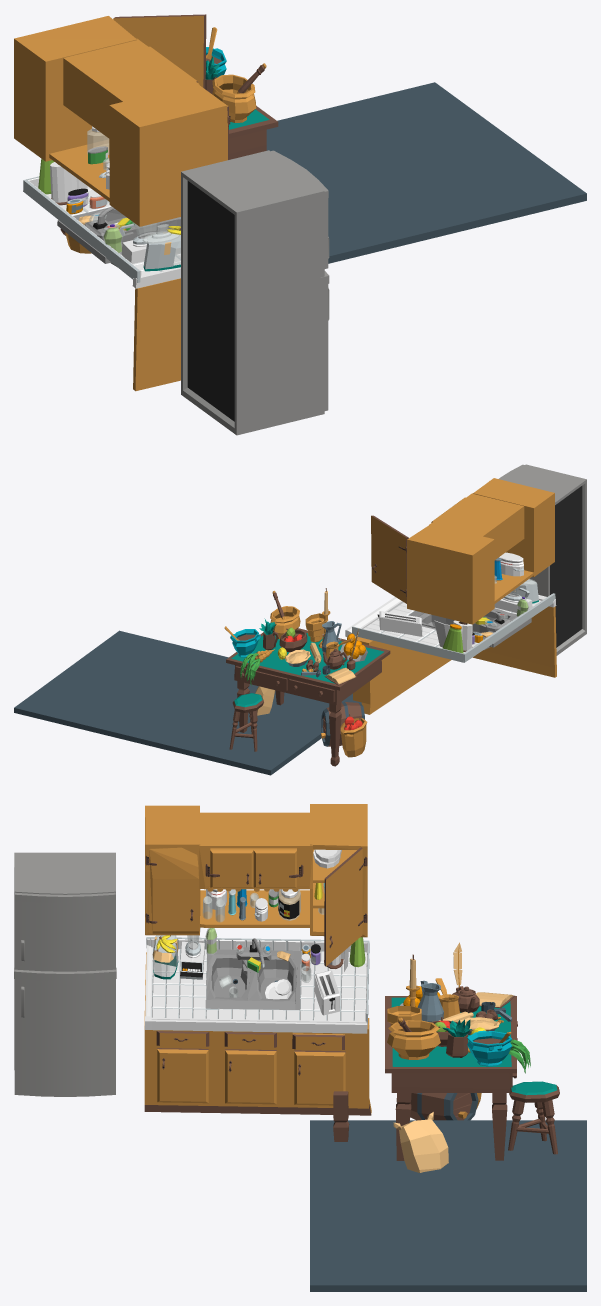
File: newkitchen.glb
3 renders of one model, top to bottom at view 1: azimuth 30°, elevation 25°; view 2: azimuth 150°, elevation 25°; view 3: azimuth 270°, elevation 25°, orthographic. The views are drawn at different scales.
Parts seen in each view (by area): view 1: Kitchen_Fridge, group1636358073, group127103481, group389376729, group1444541935, group1807070750, group824779890, group1408092273, group1668960573, group1242291210, group1885818189, group1000683941 (+4 smaller); view 2: group1636358073, group389376729, Kitchen_Fridge, group1807070750, group1408092273, group127103481, group1444541935, group824779890, group2001912568, group1534985751, group1778453459, group740783954 (+15 smaller); view 3: group1636358073, Kitchen_Fridge, group1807070750, group127103481, group1408092273, group1444541935, group389376729, group824779890, group2081104290, group1731526225, group1668960573, group2001912568 (+22 smaller).
Boxes of the visible parts, x1=… form: Kitchen_Fridge: x1=181, y1=150, x2=329, y2=435; group1636358073: x1=266, y1=82, x2=586, y2=263; group127103481: x1=109, y1=83, x2=230, y2=226; group389376729: x1=14, y1=16, x2=137, y2=161; group1444541935: x1=63, y1=38, x2=199, y2=138; group1807070750: x1=133, y1=278, x2=180, y2=391; group824779890: x1=113, y1=14, x2=206, y2=89; group1408092273: x1=229, y1=106, x2=278, y2=159; group1668960573: x1=49, y1=139, x2=109, y2=201; group1242291210: x1=142, y1=224, x2=180, y2=271; group1885818189: x1=212, y1=74, x2=256, y2=122; group1000683941: x1=119, y1=222, x2=180, y2=263; group1636358073: x1=14, y1=630, x2=361, y2=775; group389376729: x1=407, y1=524, x2=494, y2=624; Kitchen_Fridge: x1=499, y1=464, x2=586, y2=655; group1807070750: x1=353, y1=606, x2=556, y2=714; group1408092273: x1=226, y1=628, x2=390, y2=705; group127103481: x1=473, y1=478, x2=554, y2=577; group1444541935: x1=429, y1=493, x2=524, y2=559; group824779890: x1=371, y1=515, x2=408, y2=603; group2001912568: x1=229, y1=693, x2=263, y2=751; group1534985751: x1=352, y1=626, x2=463, y2=661; group1778453459: x1=340, y1=714, x2=367, y2=757; group740783954: x1=379, y1=611, x2=422, y2=636; group1636358073: x1=310, y1=1120, x2=586, y2=1291; Kitchen_Fridge: x1=14, y1=852, x2=116, y2=1096; group1807070750: x1=144, y1=952, x2=371, y2=1115; group127103481: x1=145, y1=805, x2=200, y2=935; group1408092273: x1=385, y1=996, x2=516, y2=1092; group1444541935: x1=199, y1=812, x2=312, y2=891; group389376729: x1=310, y1=804, x2=367, y2=937; group824779890: x1=324, y1=847, x2=364, y2=966; group2081104290: x1=151, y1=1017, x2=367, y2=1033; group1731526225: x1=151, y1=948, x2=206, y2=1018; group1668960573: x1=200, y1=890, x2=309, y2=927; group2001912568: x1=508, y1=1081, x2=559, y2=1154.
Bounding box in the file's own units: 13.86 × 7.85 × 13.94.
